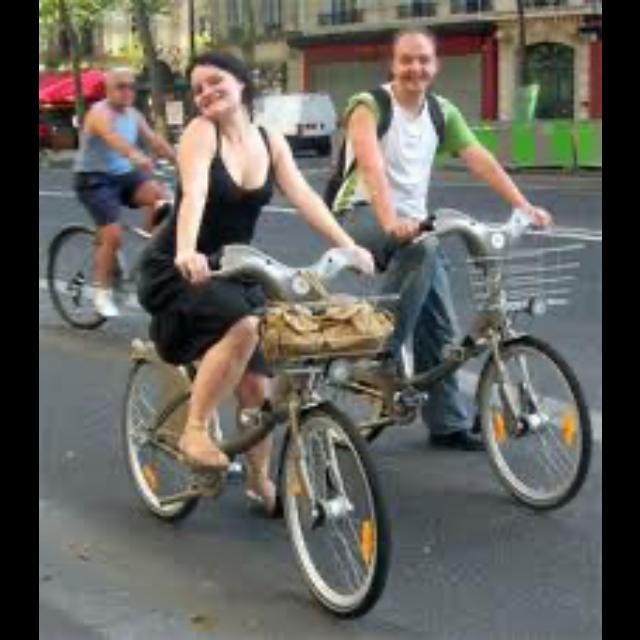Without Helmet: (179, 42, 249, 118), (380, 20, 444, 102)
